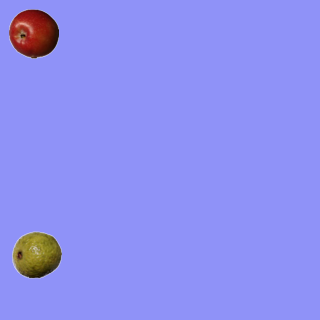Apple Braeburn: (8, 8, 58, 58)
Guava: (11, 229, 61, 279)
